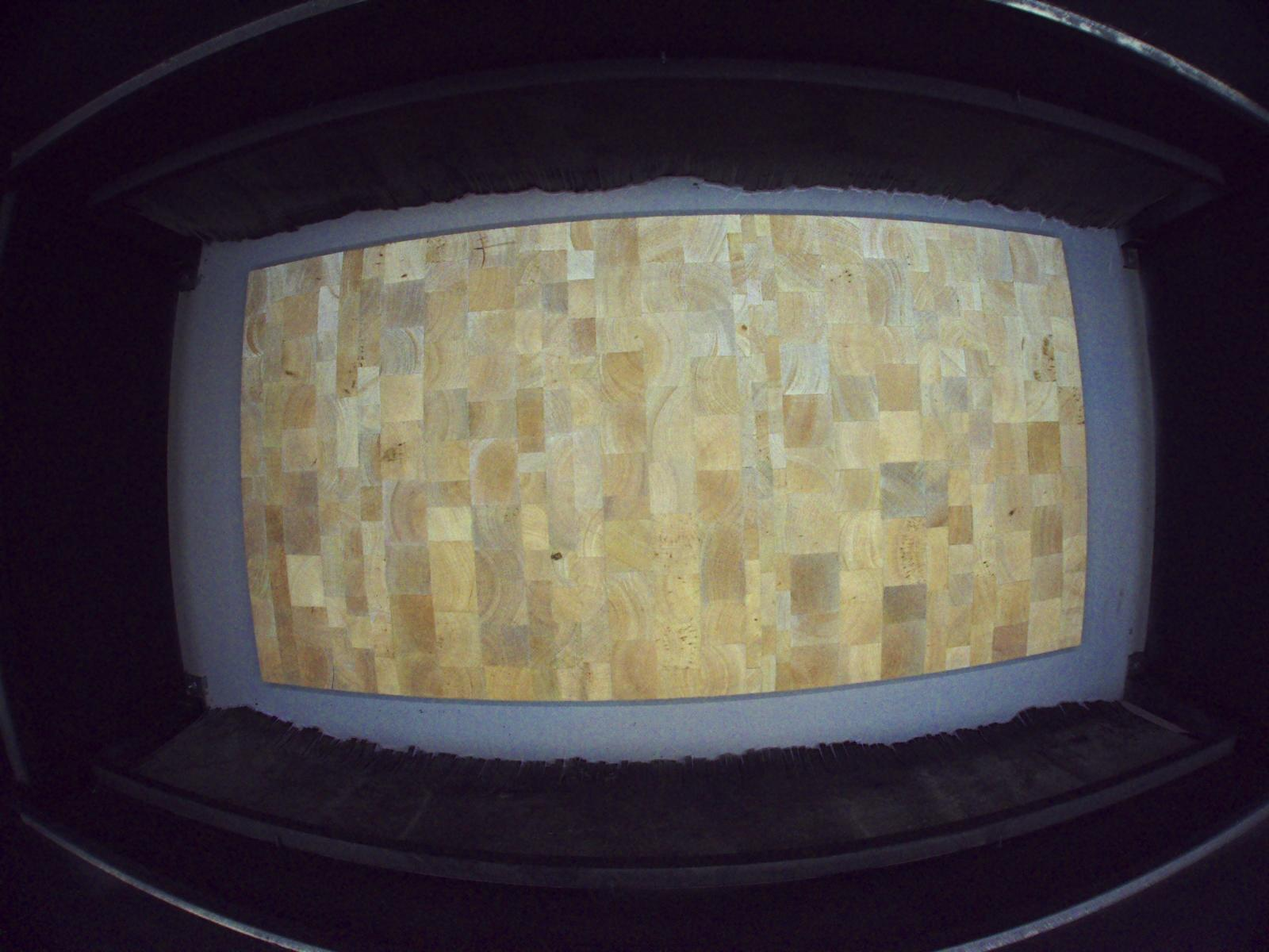sheck_ecuatoriano: (472, 230, 487, 270), (550, 549, 563, 574)
